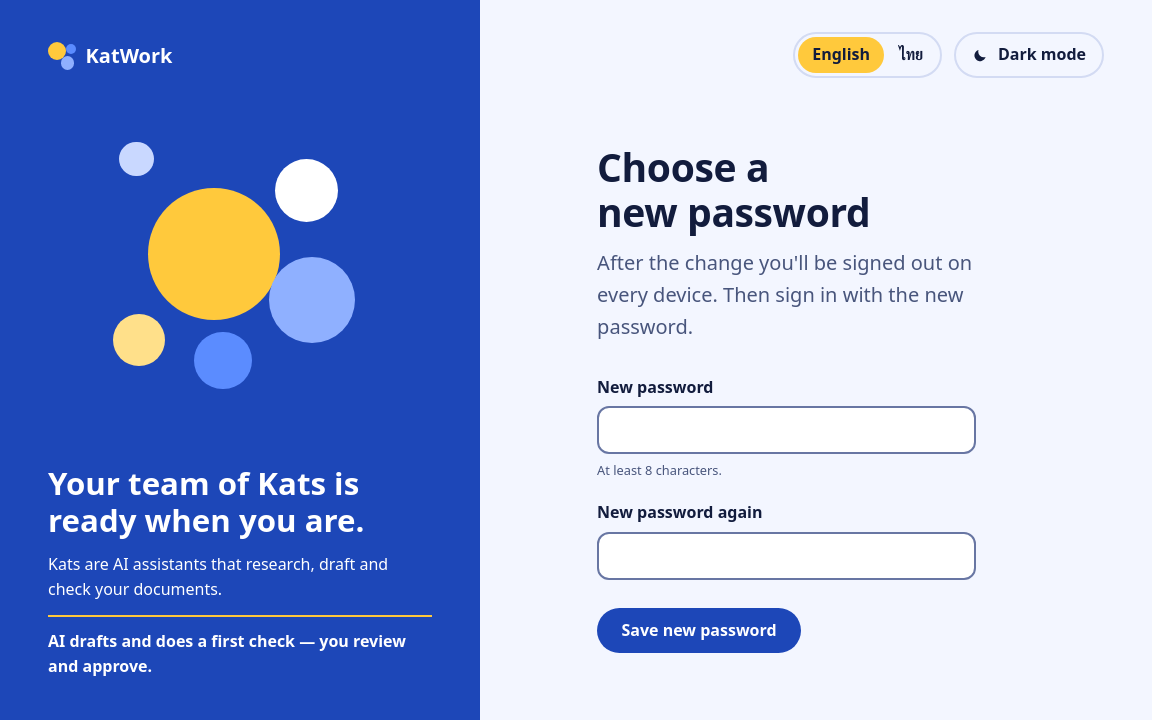
Test: reset_confirm_sends_token_and_new_password
Type "a new long password" into the password field labelled "New password".
click(787, 430); type("a new long password")  # box [597,406,976,454]
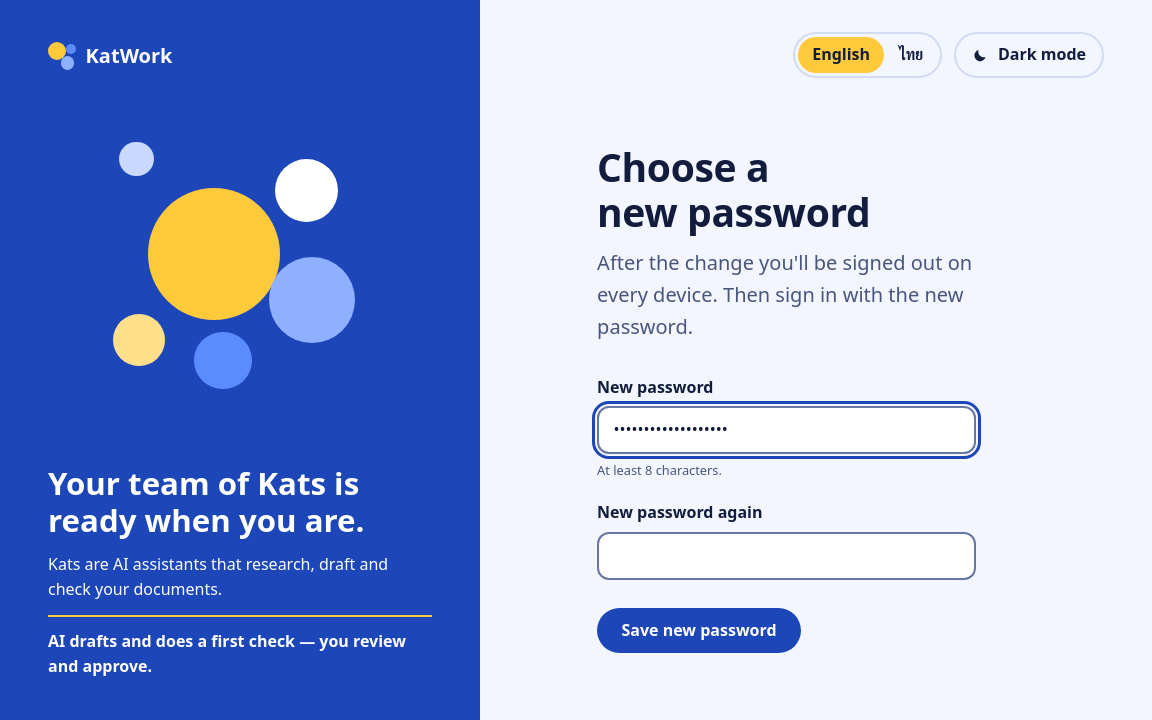
Type "a new long password" into the password field labelled "New password again".
click(787, 556); type("a new long password")  # box [597,532,976,580]
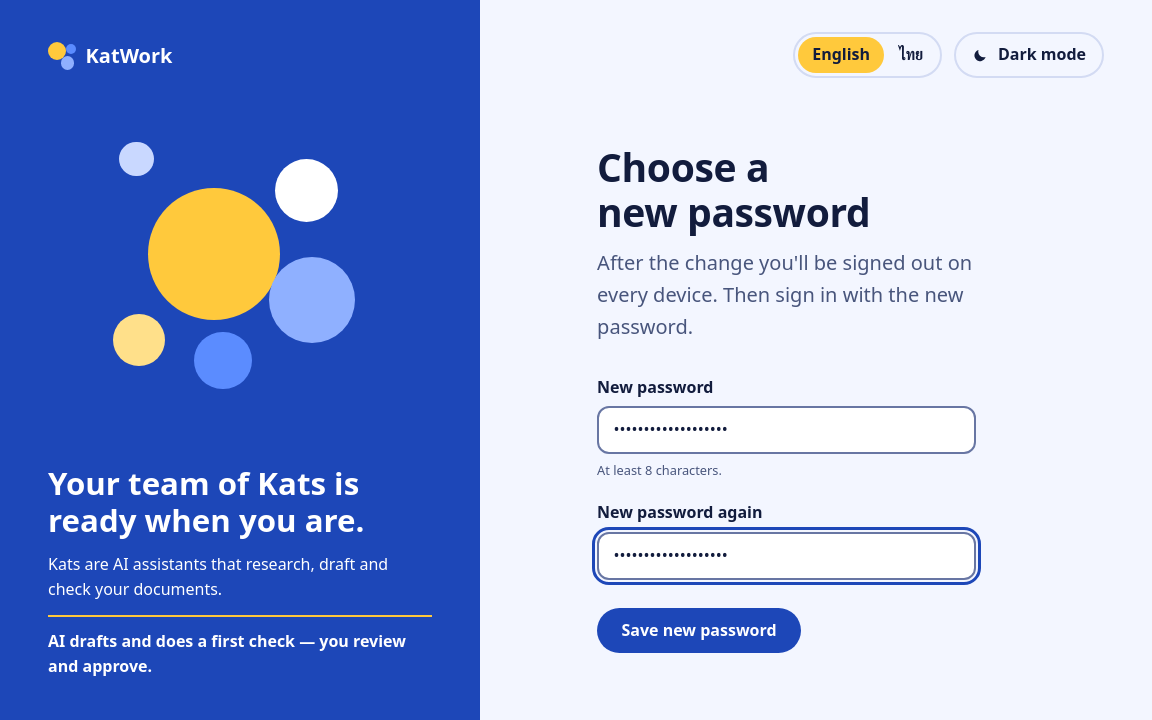
Click the button "Save new password".
click(699, 630)  # box [597,608,801,653]
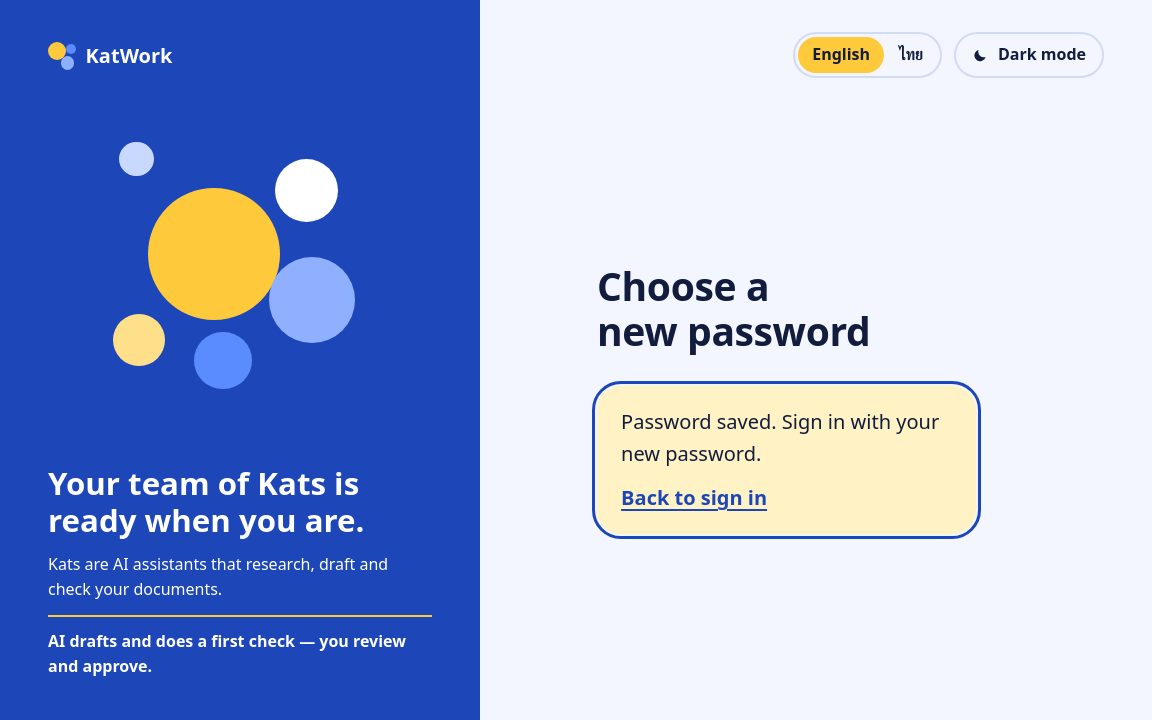
Result: the message shows "Password saved. Sign in with your new password." at [621,408,939,467]
